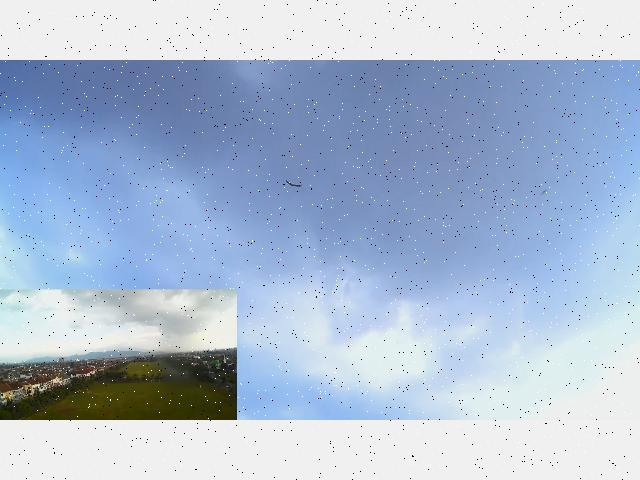Anti-Drone: (286, 181, 300, 188)
